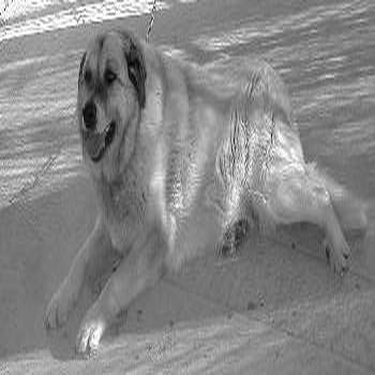dog: (36, 25, 372, 355)
